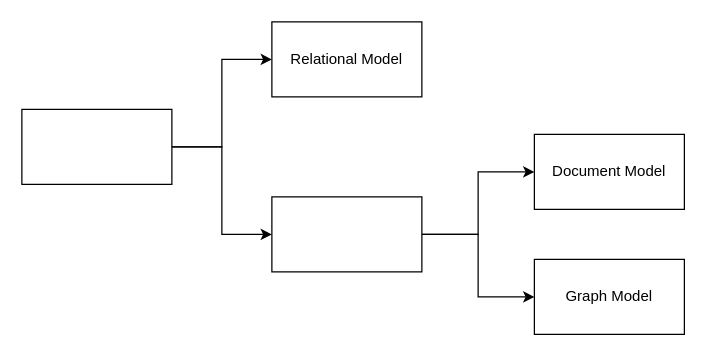
Image size: 706x356. Some labels were removed from this diagram. The shapes that lost their labels are listed below. From the top down, each one's box as (x1, y1, x2, y2) in pixels, then its label:
(21, 108, 172, 184): Data Model
(271, 196, 422, 272): NoSQL Model
